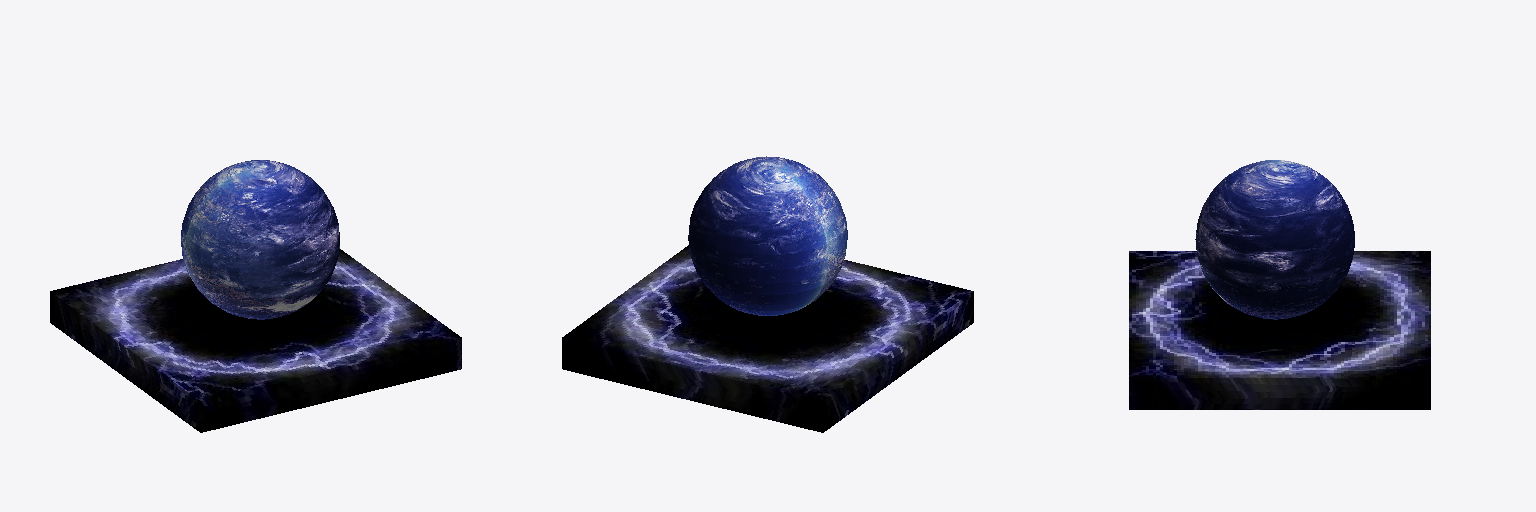
3 renders of one model, left to right at view 1: azimuth 30°, elevation 25°; view 2: azimuth 150°, elevation 25°; view 3: azimuth 270°, elevation 25°, orthographic.
Parts seen in each view (by area): view 1: Cylinder; view 2: Cylinder; view 3: Cylinder.
Part boxes in pixels (left/top/right/bottom): Cylinder: left=50, top=160, right=461, bottom=432; Cylinder: left=562, top=156, right=973, bottom=432; Cylinder: left=1129, top=160, right=1430, bottom=409.
Size of the model in its own units: 2 by 1.31 by 2.
2 materials, 2 textured.